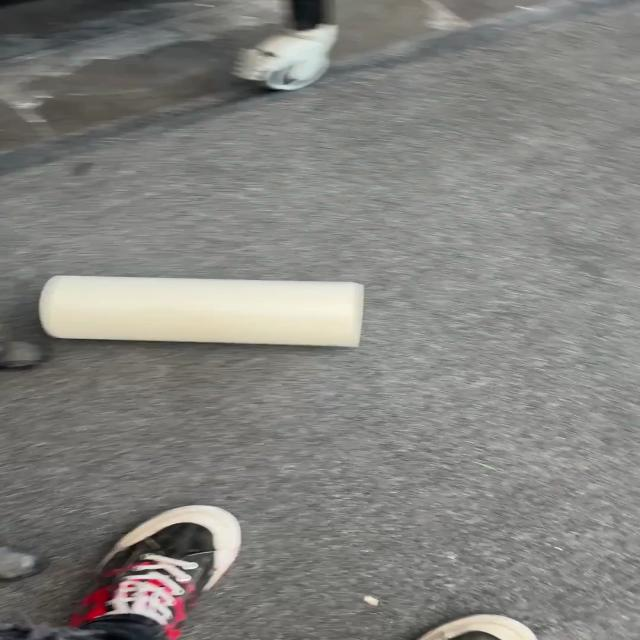Coral: (37, 274, 365, 348)
